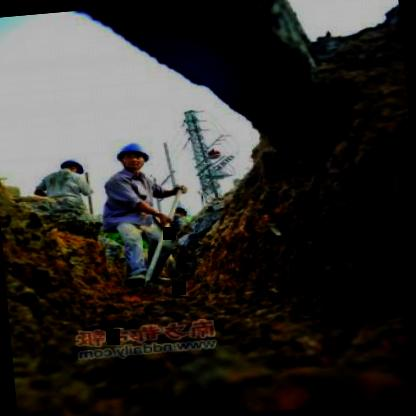helmet: (115, 138, 154, 176), (53, 151, 90, 184)
